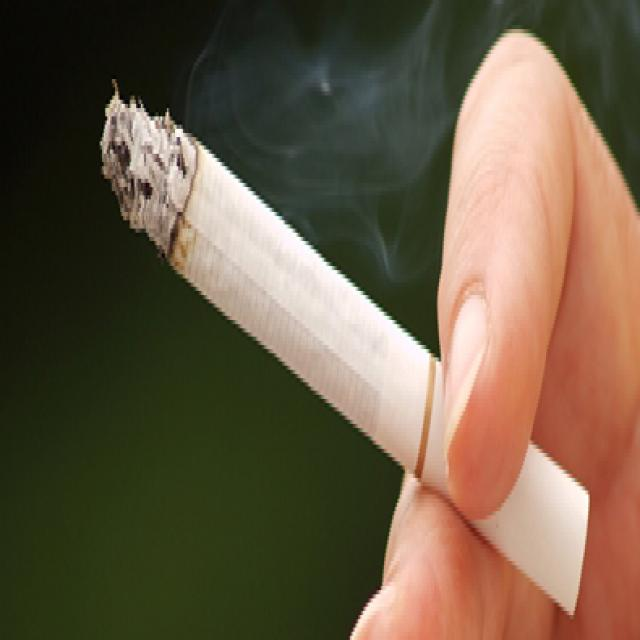smoking: (100, 96, 590, 616)
